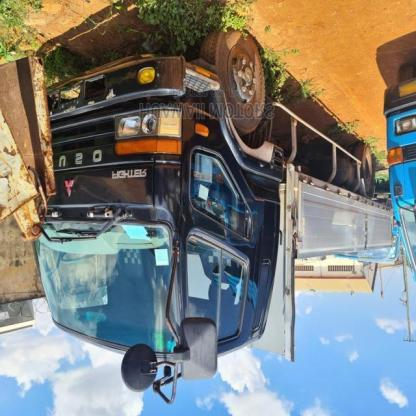truck: (25, 30, 394, 404)
